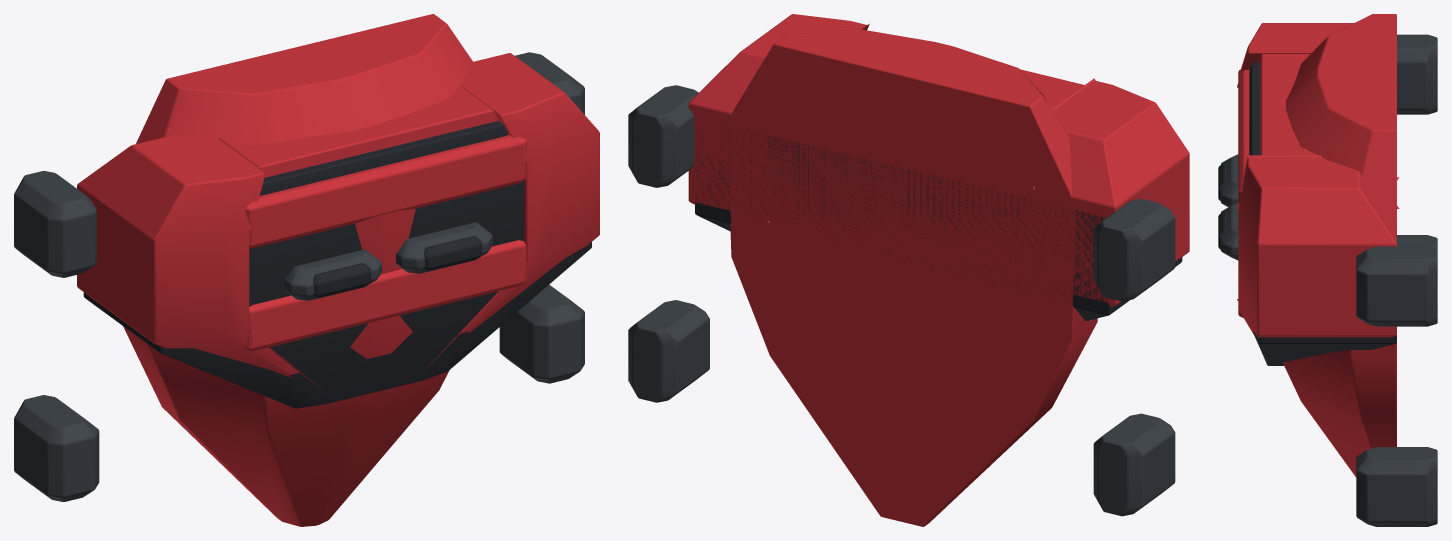
Rendered from UpperArmBack_Set05_Afterburn.fbx.
The picture shows the model from 3 angles, left to right: view 1: azimuth 30°, elevation 25°; view 2: azimuth 150°, elevation 25°; view 3: azimuth 270°, elevation 25°; orthographic projection. The views are drawn at different scales.
Visible parts, largest first — view 1: UpperArmBack_Set05_Afterburn; view 2: UpperArmBack_Set05_Afterburn; view 3: UpperArmBack_Set05_Afterburn.
Boxes of the visible parts, x1,y1,x2,y2 form: UpperArmBack_Set05_Afterburn: (14,14,599,526); UpperArmBack_Set05_Afterburn: (628,14,1189,526); UpperArmBack_Set05_Afterburn: (1218,14,1437,526).
Bounding box in the file's own units: 0.41 × 0.34 × 0.1618.
